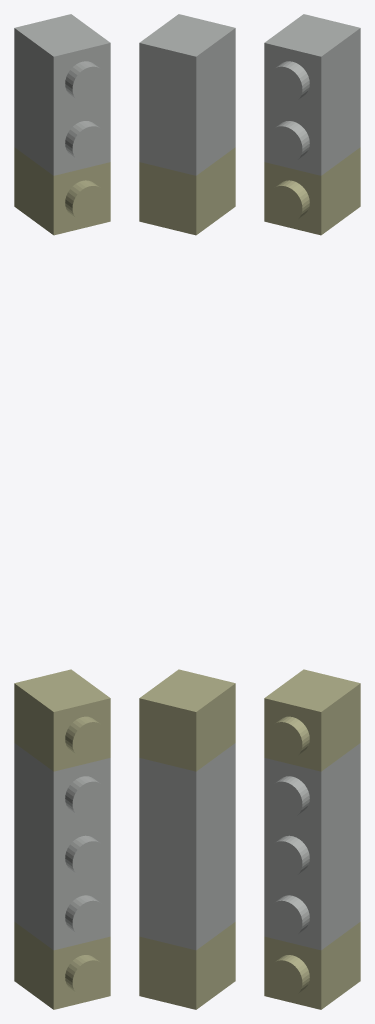
The model's file is current.glb.
3 renders of one model, left to right at view 1: azimuth 30°, elevation 25°; view 2: azimuth 150°, elevation 25°; view 3: azimuth 330°, elevation 25°, orthographic.
Parts seen in each view (by area): view 1: world; view 2: world; view 3: world.
Boxes of the visible parts, box(x1,y1,x2,y2) form: world: box(14, 14, 110, 1009); world: box(139, 14, 235, 1009); world: box(264, 14, 360, 1009).
Size of the model in its own units: 8 by 128 by 11.4.
